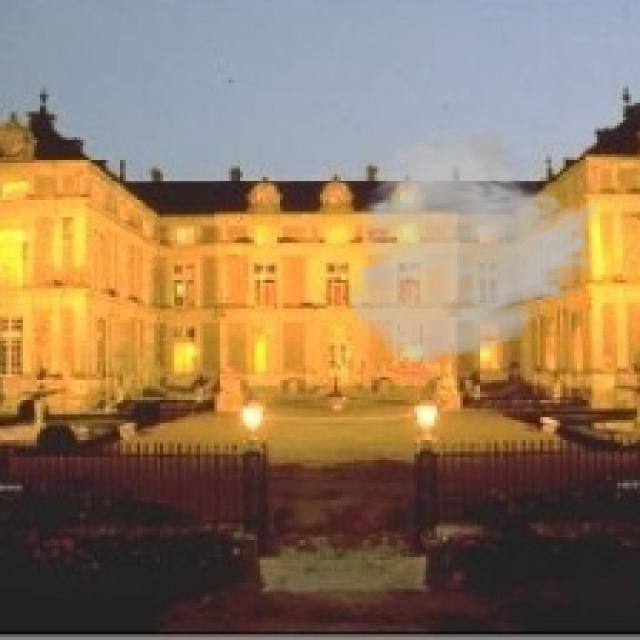smoke: (343, 123, 606, 366)
